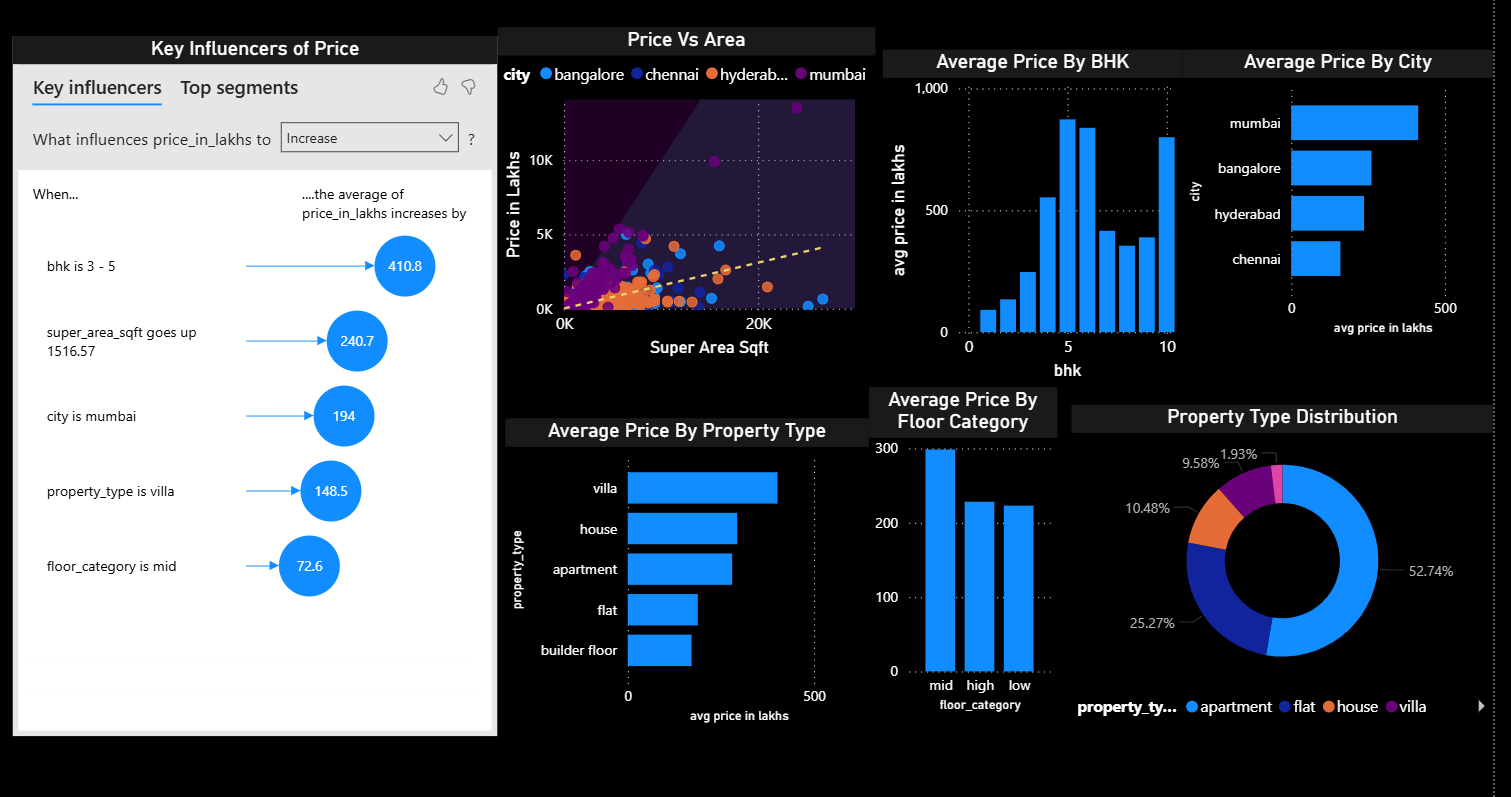

Layout of this report page (visuals, bound fields, positions):
{"tool":"powerbi","page":{"name":"Key Influencers","canvas":[1280,720],"ordinal":0},"visuals":[{"type":"barChart","title":"Average Price By City","fields":{"Y":["Measures (2).avg price"],"Category":["dim_city.city"]},"box":[1015.1,45.3,265.1,248.8],"z":0},{"type":"scatterChart","title":"Price Vs Area","fields":{"X":["fact_property.super_area_sqft"],"Series":["dim_city.city"],"Y":["fact_property.price_in_lakhs"]},"box":[430,26.7,322.2,286],"z":1000},{"type":"barChart","title":"Average Price By Property Type","fields":{"Y":["Measures (2).avg price"],"Category":["dim_property.property_type"]},"box":[436,360.5,310.5,265.1],"z":2000},{"type":"clusteredColumnChart","title":"Average Price By Floor Category","fields":{"Category":["dim_floor.floor_category"],"Y":["Measures (2).avg price in lakhs"]},"box":[746.5,333.7,160.5,282.6],"z":3000},{"type":"clusteredColumnChart","title":"Average Price By BHK","fields":{"Y":["Measures (2).avg price in lakhs"],"Category":["fact_property.bhk"]},"box":[758.6,45.9,256.1,287],"z":4000},{"type":"keyDriversVisual","title":"Key Influencers of Price","fields":{"Target":["fact_property.price_in_lakhs"],"ExplainBy":["dim_city.city","dim_location.location","fact_property.super_area_sqft","dim_property.property_type","fact_property.bhk","dim_furnishing.furnishing","dim_ownership.ownership","dim_floor.floor_category"]},"box":[16,34.1,414,597.5],"z":5000},{"type":"donutChart","title":"Property Type Distribution","fields":{"Category":["dim_property.property_type"],"Y":["CountNonNull(fact_property.property_id)"]},"box":[919.8,348.8,360.5,276.7],"z":6000}]}

Visuals, with their boxes on the page's 1280x720 design canvas (x1, y1, x2, y2). These are canvas units, not pixel positions in the 1511x797 screenshot, which may show the page scaled, cropped or inside an application window:
"Average Price By City" barChart: select_region(1015, 45, 1280, 294)
"Price Vs Area" scatterChart: select_region(430, 27, 752, 313)
"Average Price By Property Type" barChart: select_region(436, 360, 746, 626)
"Average Price By Floor Category" clusteredColumnChart: select_region(746, 334, 907, 616)
"Average Price By BHK" clusteredColumnChart: select_region(759, 46, 1015, 333)
"Key Influencers of Price" keyDriversVisual: select_region(16, 34, 430, 632)
"Property Type Distribution" donutChart: select_region(920, 349, 1280, 626)
